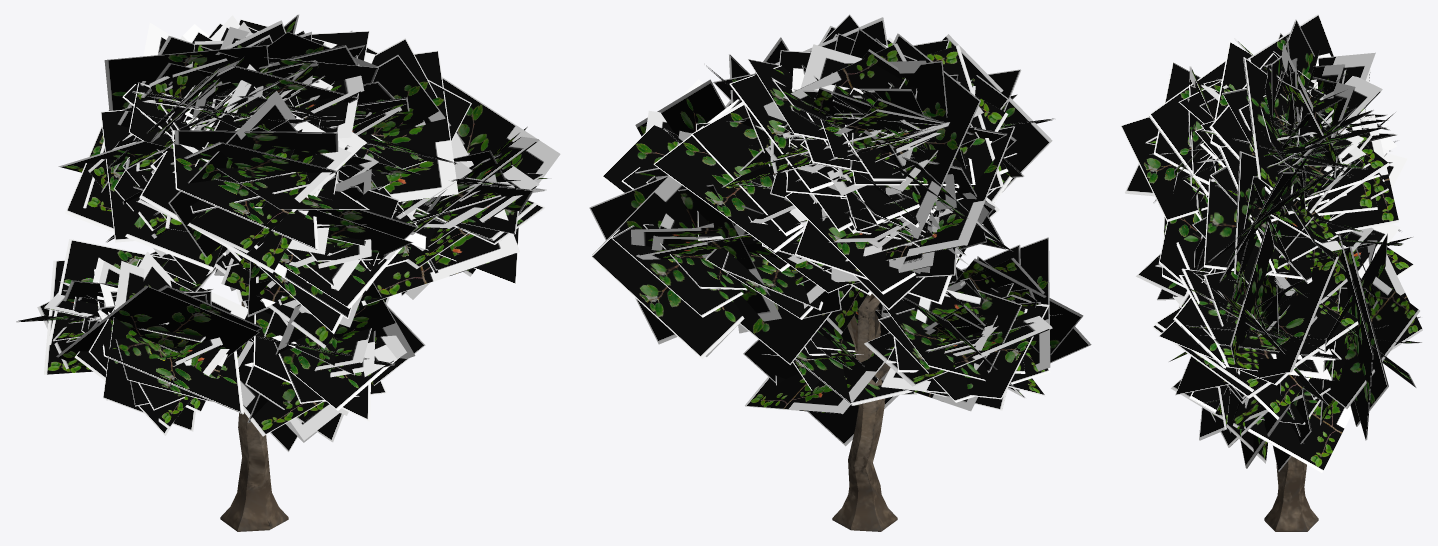
File: Tree.fbx
3 views of the same model, side by side, from view 1: azimuth 30°, elevation 25°; view 2: azimuth 150°, elevation 25°; view 3: azimuth 270°, elevation 25° (orthographic). The views are drawn at different scales.
Parts seen in each view (by area): view 1: Arvore.001; view 2: Arvore.001; view 3: Arvore.001.
Part boxes in pixels (x1,y1,x2,y2): Arvore.001: (16, 14, 560, 531); Arvore.001: (589, 14, 1091, 531); Arvore.001: (1120, 14, 1422, 531).
Bounding box in the file's own units: 793 × 804 × 474.
2 materials, 2 textured.
